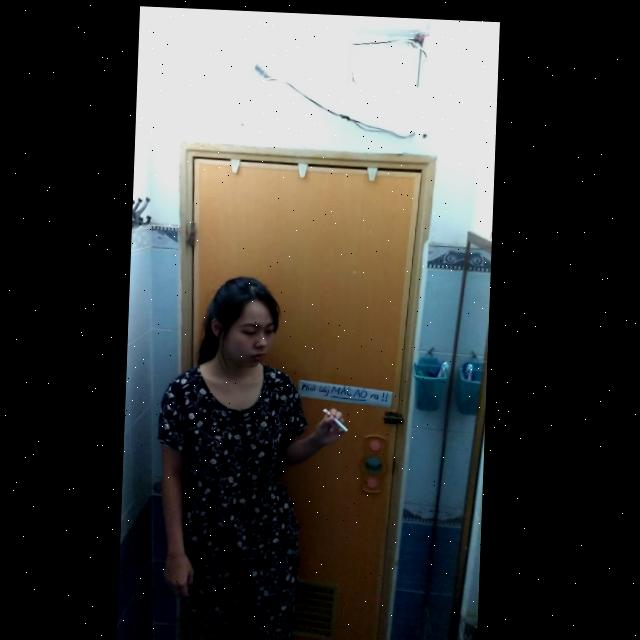cigarette: (325, 405, 352, 430)
